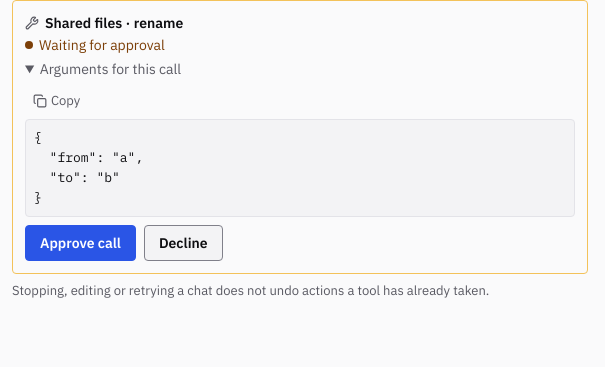
Test: shows failures and lets the person retry a decision
The image size is (605, 367).
Click the button with aria-label "Approve rename call".
click(80, 243)  # box [25, 225, 136, 261]
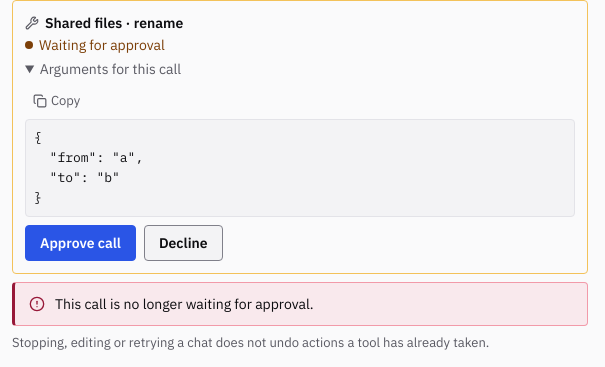
expect the message "This call is no longer waiting for approval." is shown: met, box [12, 282, 588, 326]
